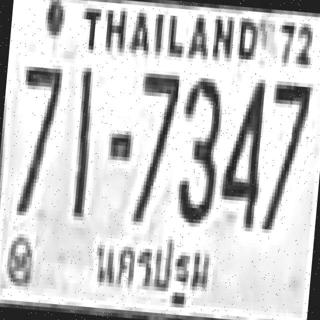N01: (69, 66, 94, 214)
N03: (174, 72, 222, 224)
N04: (217, 73, 266, 224)
N07: (128, 67, 180, 222), (260, 76, 311, 232), (12, 62, 60, 214)
P28: (86, 227, 215, 312)
